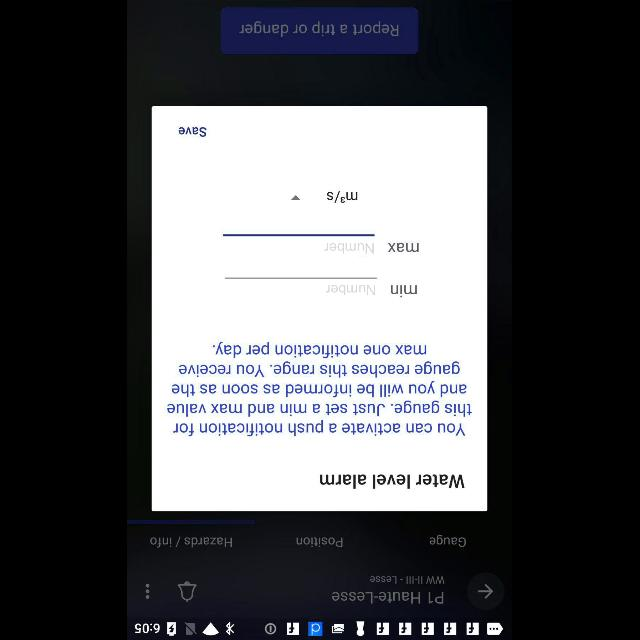icon: (468, 572, 506, 610), (178, 580, 198, 602), (146, 583, 150, 599), (293, 196, 301, 200)
input: (224, 234, 376, 254), (226, 277, 378, 295)
panel: (152, 106, 488, 512)
text: (168, 342, 472, 436), (321, 474, 465, 488), (332, 592, 444, 604), (151, 536, 233, 548), (370, 576, 446, 584), (326, 284, 376, 296), (326, 242, 374, 254), (296, 537, 344, 547), (430, 534, 466, 546), (328, 191, 358, 203), (392, 285, 418, 297), (389, 242, 419, 252), (180, 128, 208, 136)
textbutton: (220, 7, 420, 55)
uppertaskbar: (128, 617, 512, 639)
